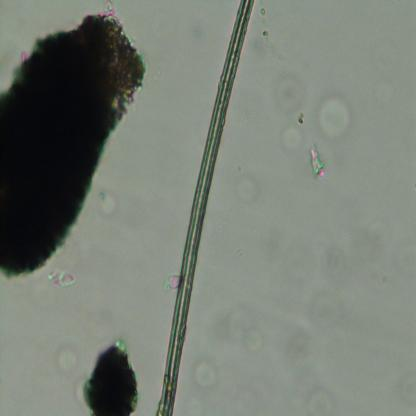Background material: (0, 3, 152, 280), (83, 342, 141, 415), (287, 330, 334, 415), (315, 89, 356, 143), (226, 302, 263, 352), (316, 237, 352, 277), (309, 292, 342, 330), (277, 74, 305, 116), (277, 122, 304, 160), (192, 357, 220, 391), (394, 369, 416, 410), (307, 143, 327, 182), (54, 343, 78, 375), (235, 173, 260, 202), (97, 188, 119, 219), (48, 266, 77, 287)
Microfibre: (156, 0, 255, 415)
